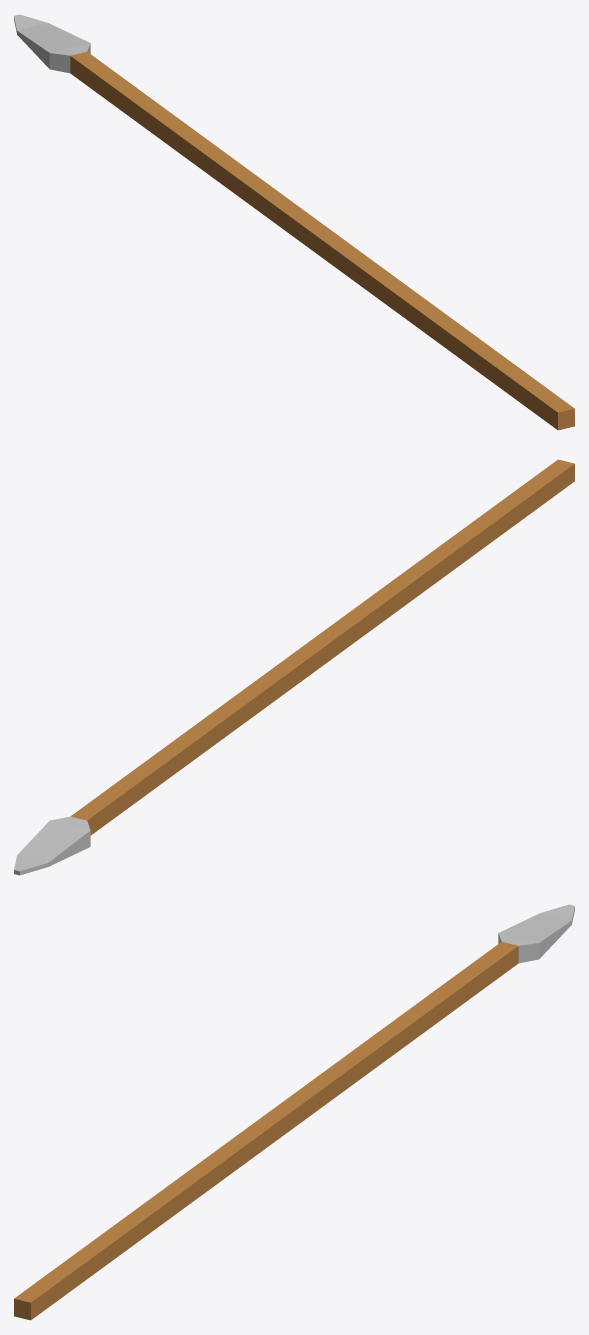
File: Spear.glb
3 renders of one model, top to bottom at view 1: azimuth 30°, elevation 25°; view 2: azimuth 150°, elevation 25°; view 3: azimuth 330°, elevation 25°, orthographic.
Visible parts, largest first — view 1: Cube; view 2: Cube; view 3: Cube.
Part boxes in pixels (x1,y1,x2,y2): Cube: [14, 14, 574, 430]; Cube: [14, 459, 574, 875]; Cube: [14, 904, 574, 1320].
Bounding box in the file's own units: 0.4829 × 0.2 × 11.27.
